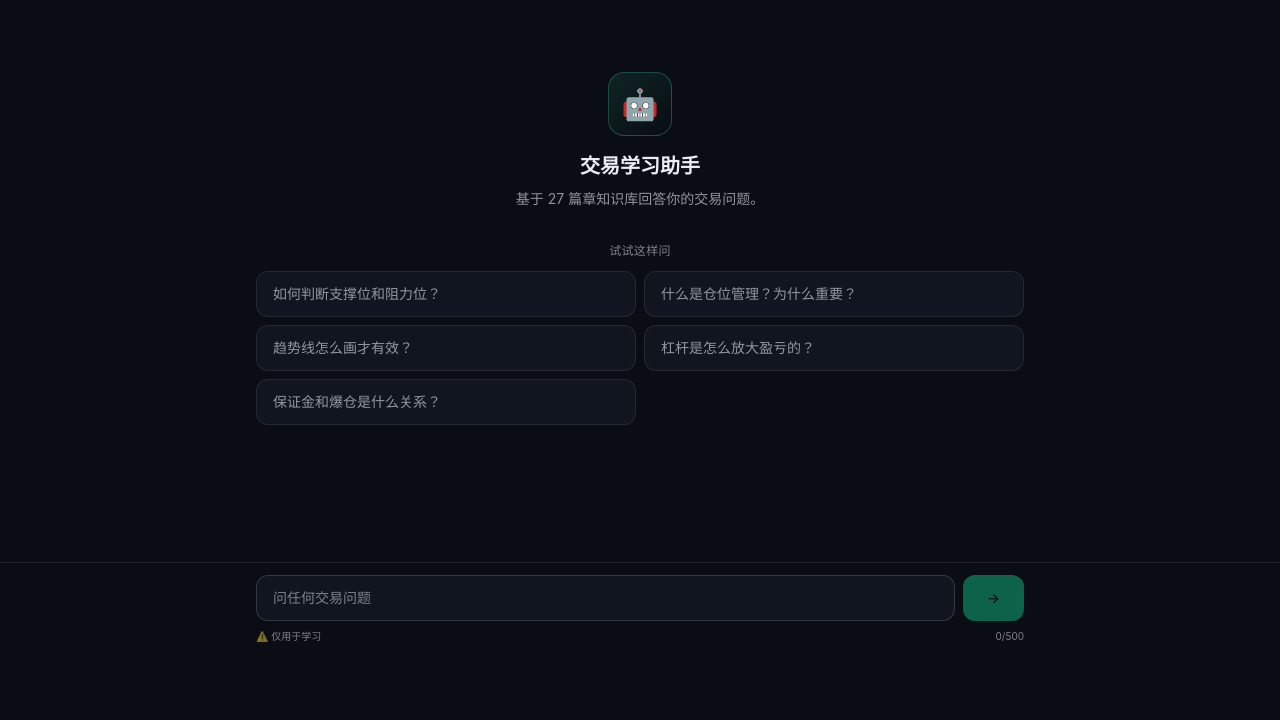
Test: AiChat 错误态分级（R1.11） › 5xx 展示服务不可用文案（而非笼统错误）
Click the button "如何判断支撑位和阻力位？" at x=357, y=293, box left=256, top=271, right=636, bottom=317
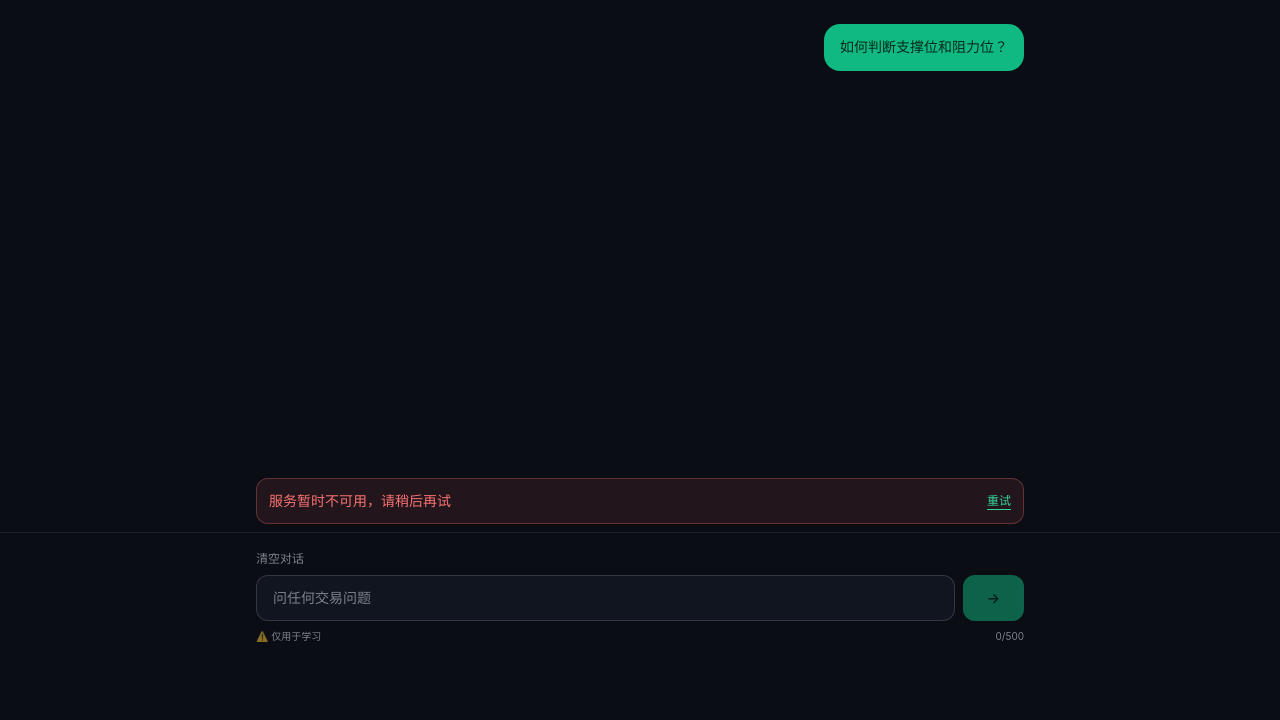
Now the text "服务暂时不可用，请稍后再试" is shown, box left=269, top=491, right=451, bottom=511
